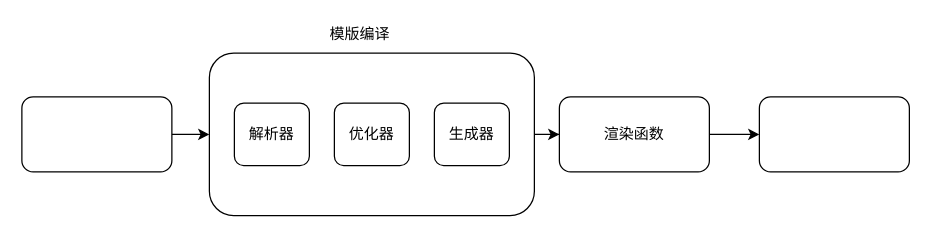
Some shapes in this 931 by 238 pixel diagram are drawn without their labels. The shapes that lost their labels are listed below. From the top down, each one's box as (x1, y1, x2, y2) in pixels, then its label:
(21, 96, 172, 172): 模版 template
(758, 96, 909, 172): vnode
